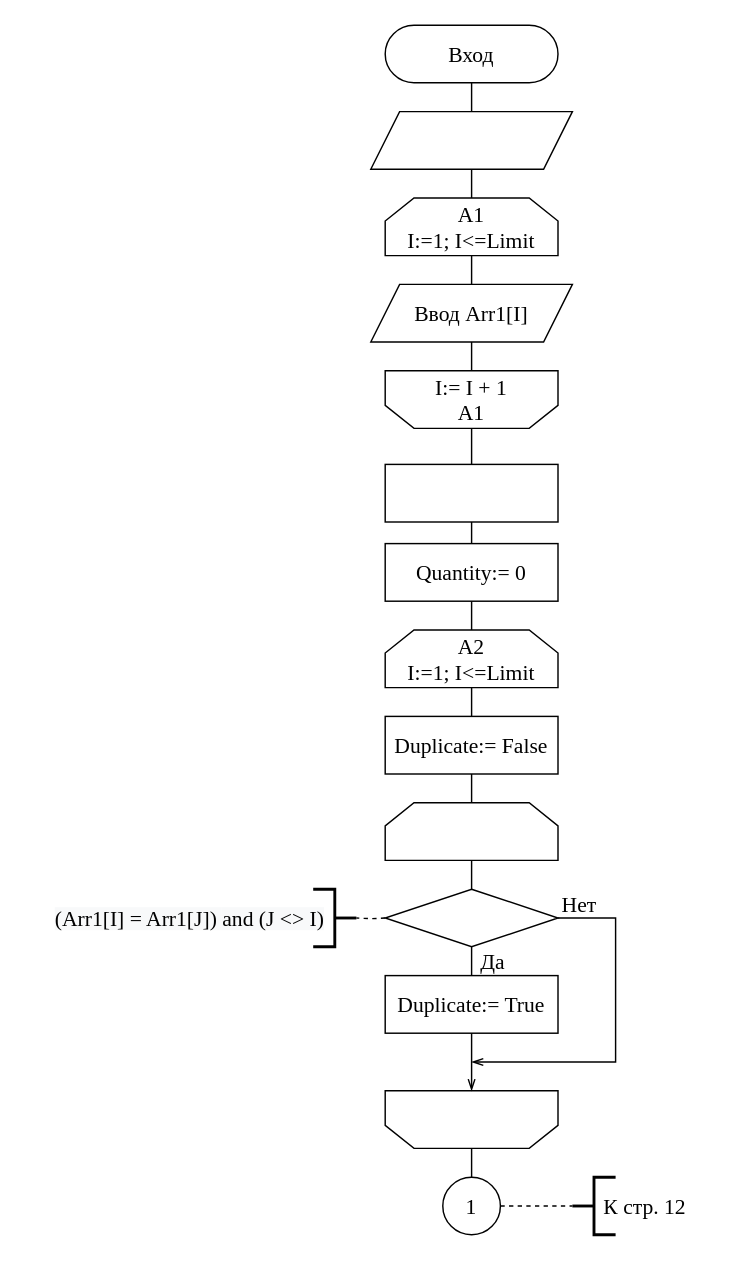
This 740x1261 diagram has some shape labels left out. Each missing label, with the centre of its shape:
"J:= J + 1 А3" goes at pixel 471 1118.
"K:= 1" goes at pixel 471 492.
"А3 J:=1; J<=Limit" goes at pixel 471 830.
"Ввод Limit" goes at pixel 470 139.
